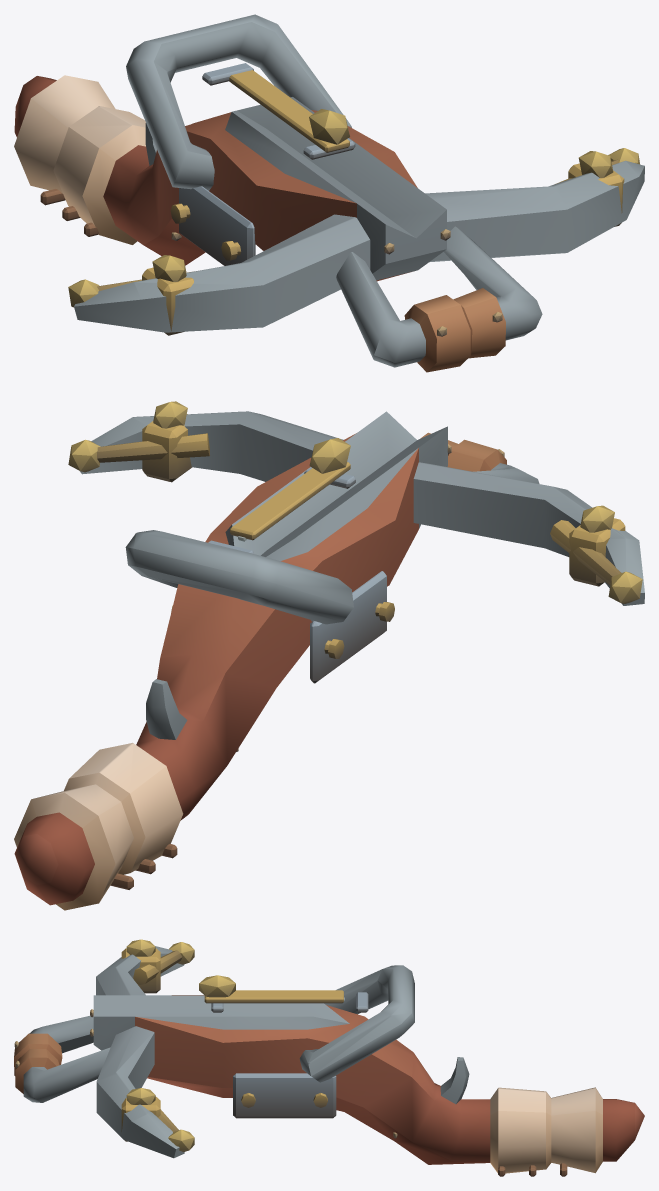
The model's file is ballesta_runica_t4.glb.
3 views of the same model, one above another, from view 1: azimuth 30°, elevation 25°; view 2: azimuth 150°, elevation 25°; view 3: azimuth 270°, elevation 25° (orthographic). The views are drawn at different scales.
Parts seen in each view (by area): view 1: ballesta_runica_t4_finished; view 2: ballesta_runica_t4_finished; view 3: ballesta_runica_t4_finished.
Part boxes in pixels (x1,y1,x2,y2): ballesta_runica_t4_finished: [14, 14, 644, 372]; ballesta_runica_t4_finished: [14, 401, 644, 910]; ballesta_runica_t4_finished: [14, 939, 644, 1176].
Bounding box in the file's own units: 0.9114 × 0.4252 × 1.22.
Materials: 2 (2 with a texture image).
